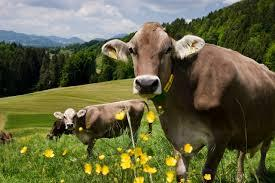cow: (102, 26, 275, 183), (54, 99, 144, 156)
